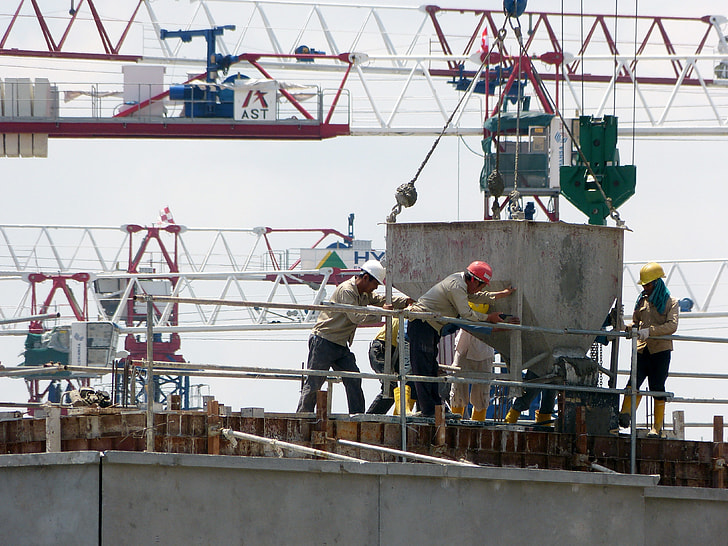Hard Hat: (634, 262, 666, 294), (464, 262, 494, 295), (358, 262, 385, 293)
Person: (409, 261, 520, 420), (298, 261, 407, 415), (619, 262, 679, 437), (367, 309, 411, 419), (454, 326, 493, 424), (508, 364, 557, 427)
